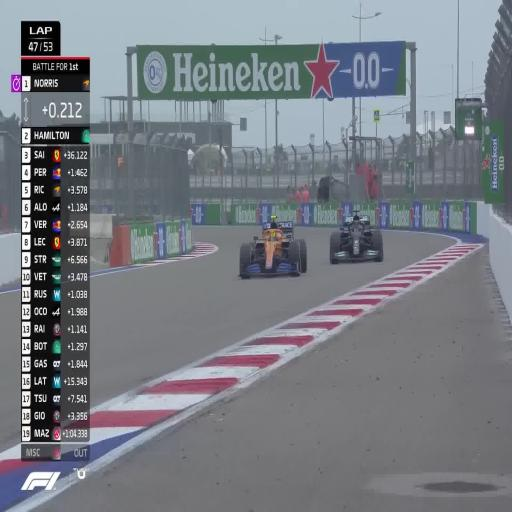f1_car: (239, 216, 307, 277), (330, 210, 383, 263)
